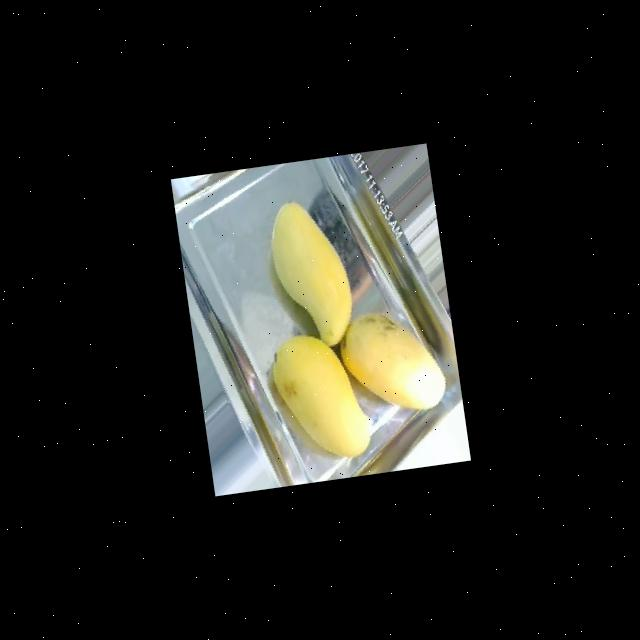Mango: (267, 327, 376, 468), (264, 194, 358, 352), (336, 303, 450, 420)
